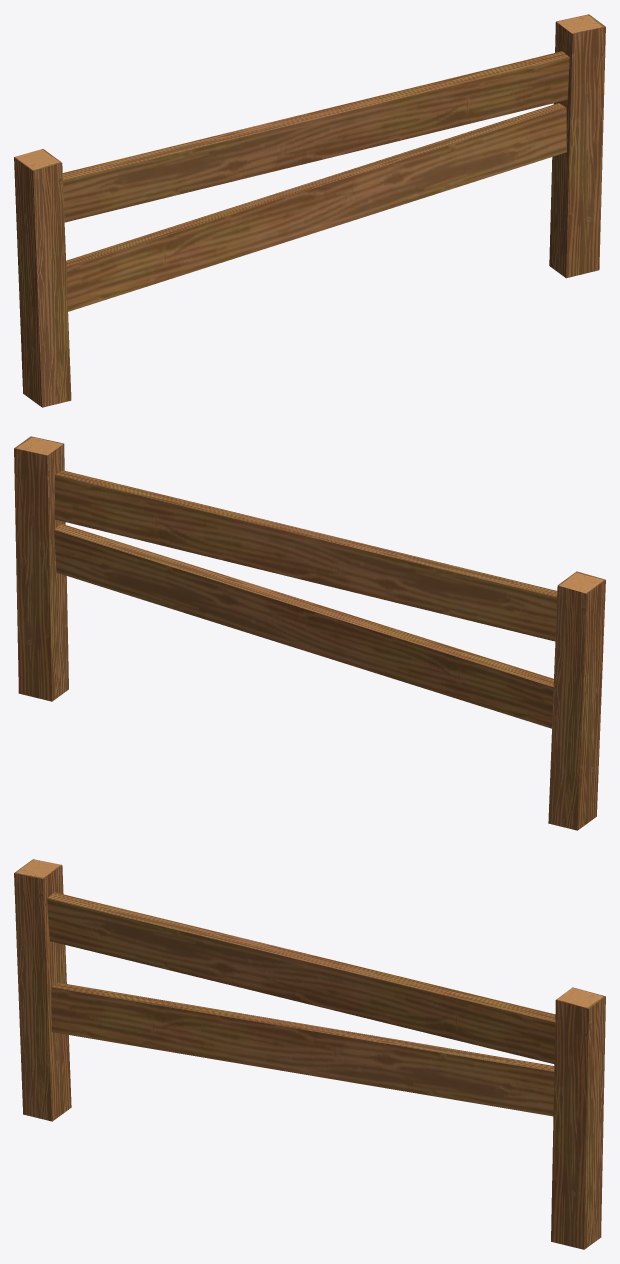
File: trastaket.glb
3 views of the same model, one above another, from view 1: azimuth 30°, elevation 25°; view 2: azimuth 150°, elevation 25°; view 3: azimuth 330°, elevation 25° (orthographic).
Parts seen in each view (by area): view 1: Prop_WoodenFence_Single; view 2: Prop_WoodenFence_Single; view 3: Prop_WoodenFence_Single.
Boxes of the visible parts, <box> form: Prop_WoodenFence_Single: <box>14,14,605,407</box>; Prop_WoodenFence_Single: <box>14,436,605,830</box>; Prop_WoodenFence_Single: <box>14,859,605,1249</box>.
Size of the model in its own units: 2.06 by 0.8381 by 0.1197.
1 material, 1 textured.
